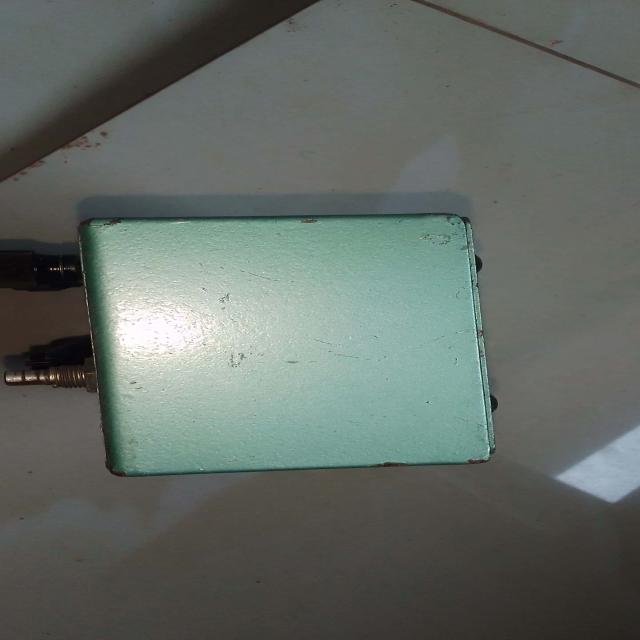Decade Resistance Box: (9, 200, 511, 488)
